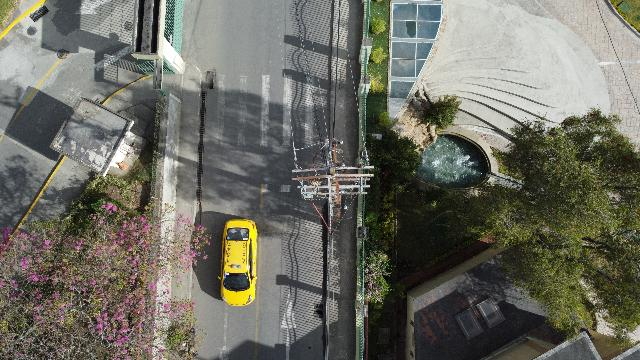Vehiculo: (218, 218, 258, 306)
